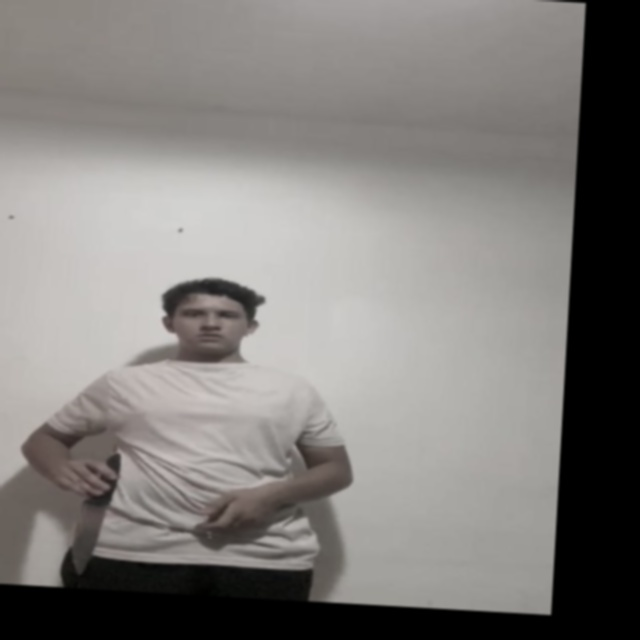Sharp-Object: (69, 499, 105, 568)
